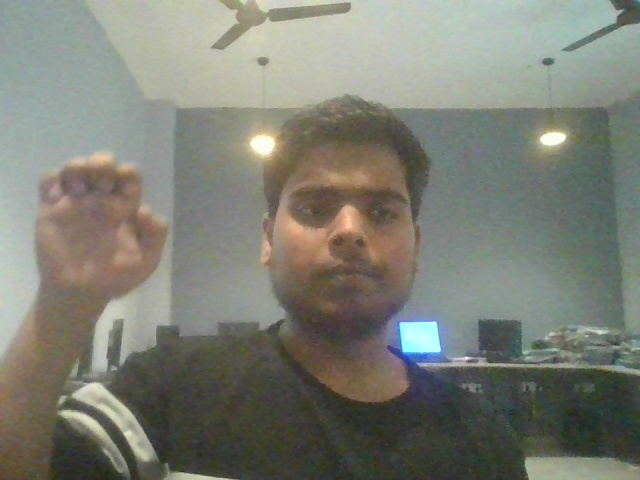C: (12, 144, 202, 333)
